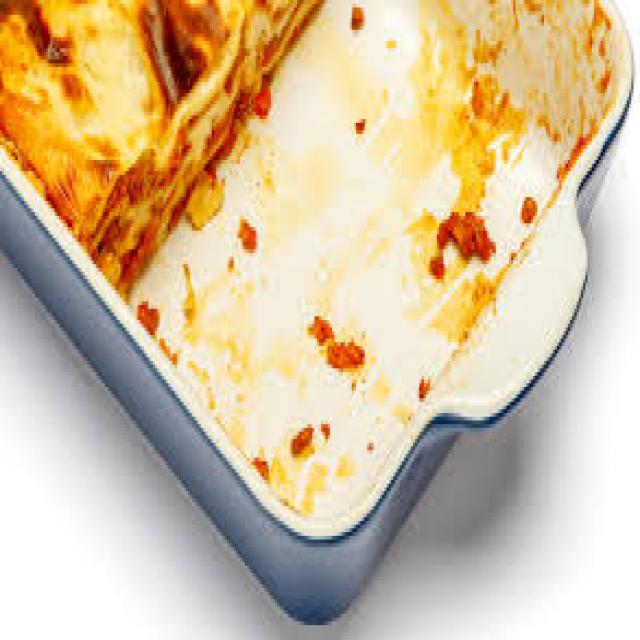organic waste: (0, 0, 323, 294), (437, 205, 491, 264), (183, 168, 223, 224), (230, 112, 253, 171), (321, 338, 363, 364), (181, 260, 197, 316), (286, 417, 312, 450), (236, 212, 253, 253), (308, 308, 330, 338), (249, 86, 269, 116), (138, 294, 155, 327), (518, 190, 535, 223), (345, 0, 361, 26), (415, 372, 430, 398), (431, 246, 442, 279), (254, 450, 266, 480), (354, 115, 365, 138), (319, 417, 328, 435)
